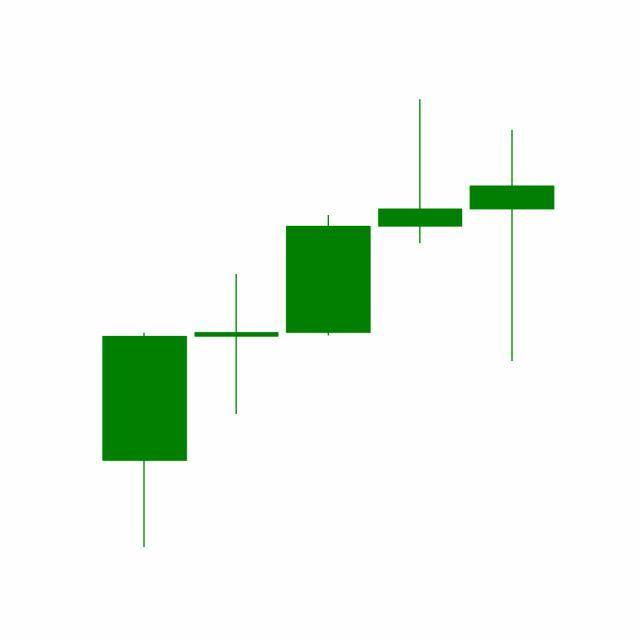Spinning Top: (374, 98, 468, 247)
